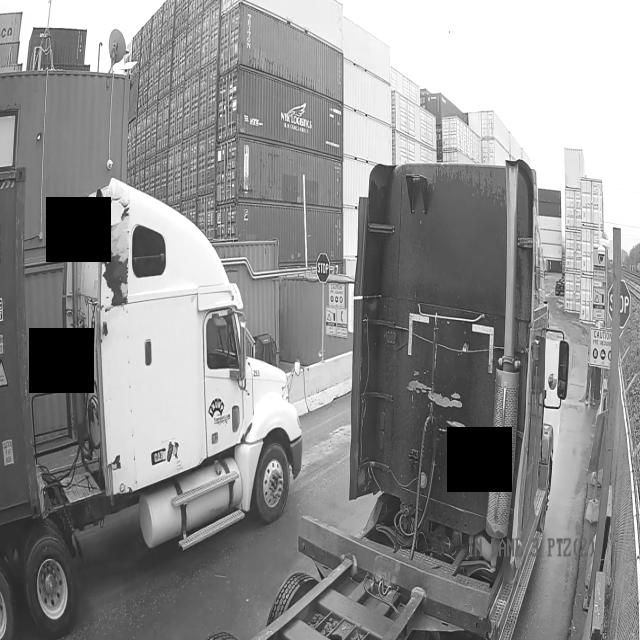truck_with_container: (259, 158, 572, 640)
